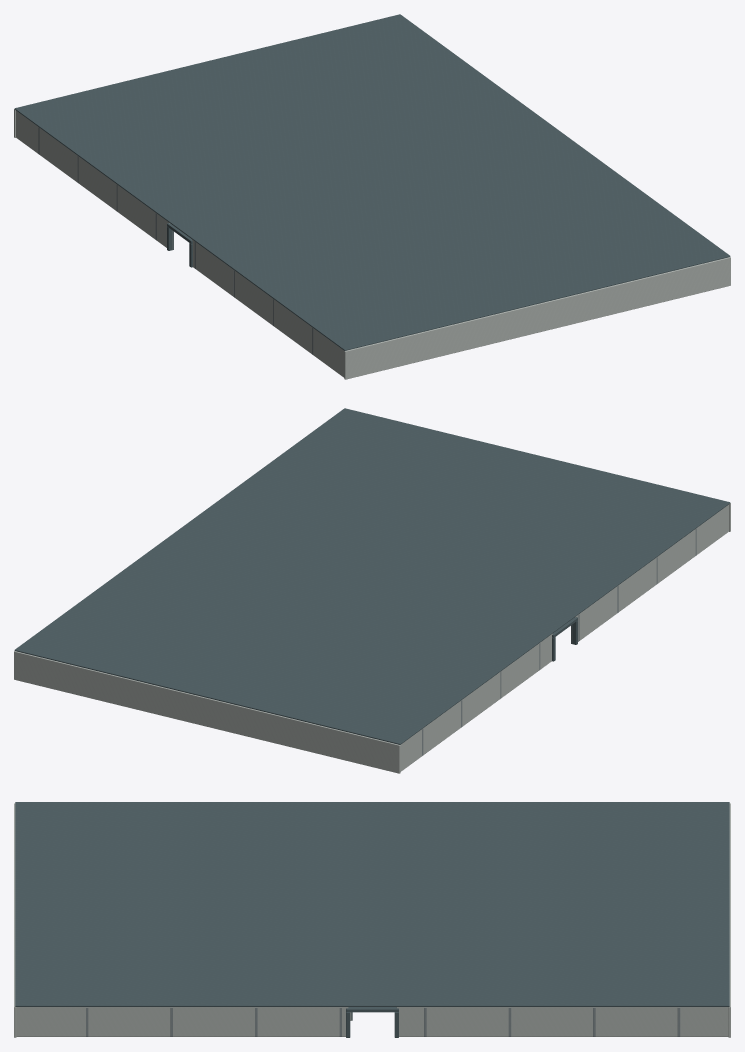
The model's file is D03_directory_07_runtime_names001.glb.
3 views of the same model, one above another, from view 1: azimuth 30°, elevation 25°; view 2: azimuth 150°, elevation 25°; view 3: azimuth 270°, elevation 25° (orthographic). The views are drawn at different scales.
Parts seen in each view (by area): view 1: D03_directory_07_N00016, D03_directory_07_N00015, D03_directory_07_N00000, D03_directory_07_N00001; view 2: D03_directory_07_N00016, D03_directory_07_N00014, D03_directory_07_N00001, D03_directory_07_N00000; view 3: D03_directory_07_N00016, D03_directory_07_N00007, D03_directory_07_N00008, D03_directory_07_N00014, D03_directory_07_N00015.
Boxes of the visible parts, x1,y1,x2,y2 form: D03_directory_07_N00016: [14, 14, 730, 350]; D03_directory_07_N00015: [344, 257, 730, 379]; D03_directory_07_N00000: [16, 110, 169, 247]; D03_directory_07_N00001: [192, 239, 344, 377]; D03_directory_07_N00016: [14, 408, 730, 744]; D03_directory_07_N00014: [14, 651, 400, 773]; D03_directory_07_N00001: [575, 504, 728, 641]; D03_directory_07_N00000: [400, 633, 552, 771]; D03_directory_07_N00016: [15, 802, 729, 1006]; D03_directory_07_N00007: [396, 1007, 728, 1036]; D03_directory_07_N00008: [16, 1007, 348, 1036]; D03_directory_07_N00014: [728, 803, 730, 1037]; D03_directory_07_N00015: [14, 803, 16, 1037].
Bounding box in the file's own units: 45.75 × 3.34 × 67.84.
Materials: 11 (11 with a texture image).
